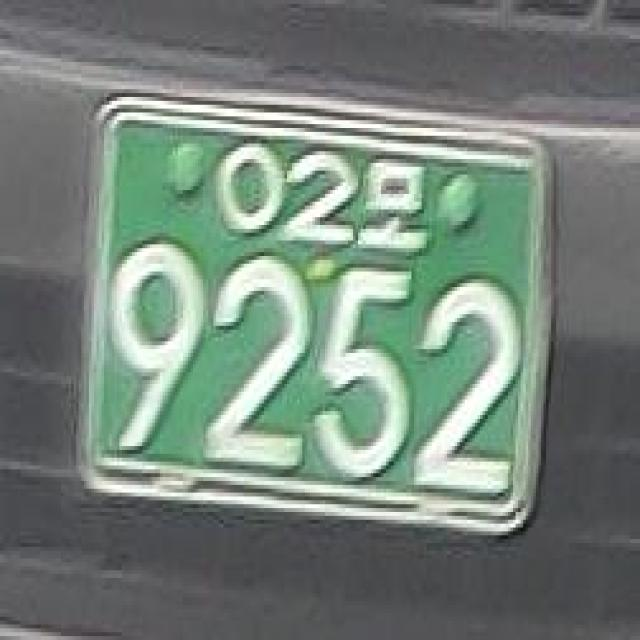illegal_plate: (72, 90, 565, 560)
